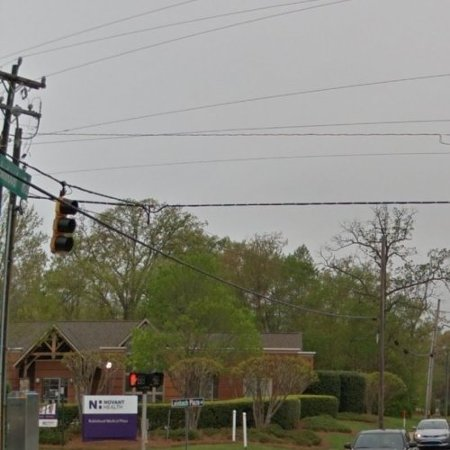紅綠燈: (238, 47, 273, 96), (368, 80, 402, 122), (141, 58, 176, 93), (68, 98, 95, 136), (305, 80, 337, 111), (427, 92, 449, 125)
